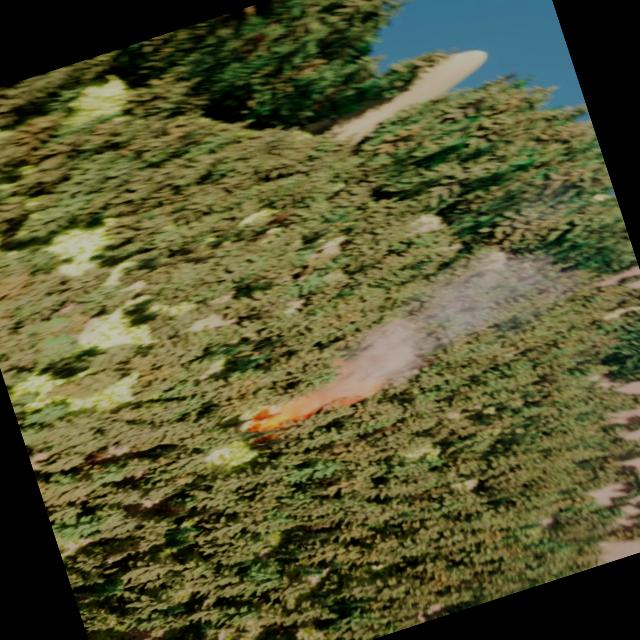fire: (238, 406, 290, 452)
smoke: (257, 222, 591, 423)
